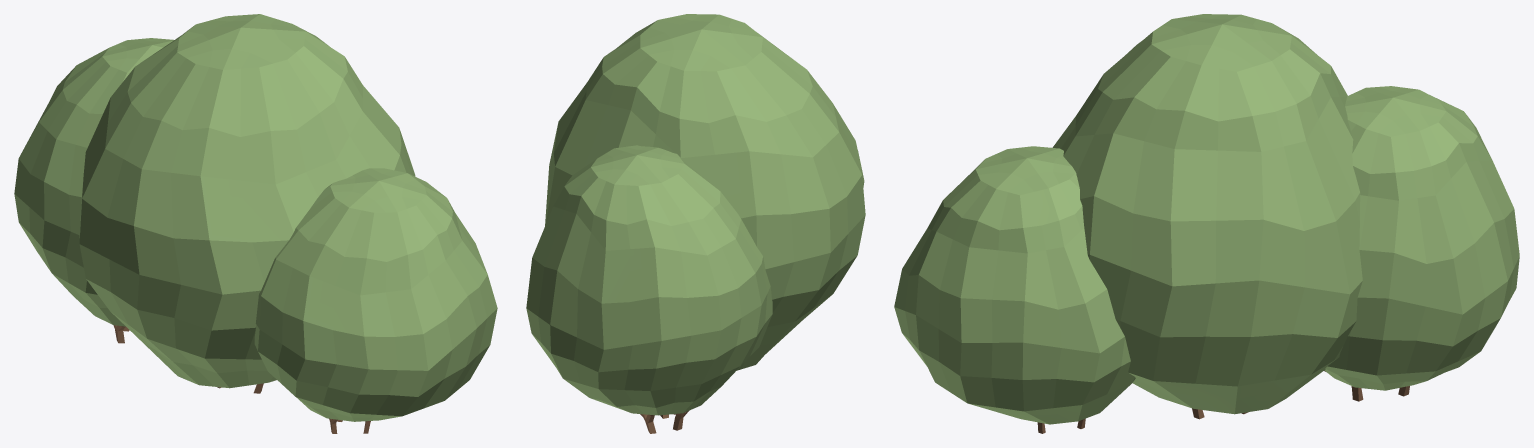
File: Bushes_bush_01.009.fbx
3 renders of one model, left to right at view 1: azimuth 30°, elevation 25°; view 2: azimuth 150°, elevation 25°; view 3: azimuth 270°, elevation 25°, orthographic. The views are drawn at different scales.
Visible parts, largest first — view 1: Bushes_bush_01.009; view 2: Bushes_bush_01.009; view 3: Bushes_bush_01.009.
Part boxes in pixels (x1=…): Bushes_bush_01.009: x1=14, y1=14, x2=497, y2=433; Bushes_bush_01.009: x1=526, y1=14, x2=865, y2=433; Bushes_bush_01.009: x1=894, y1=14, x2=1519, y2=433.
Bounding box in the file's own units: 146 × 166 × 242.
